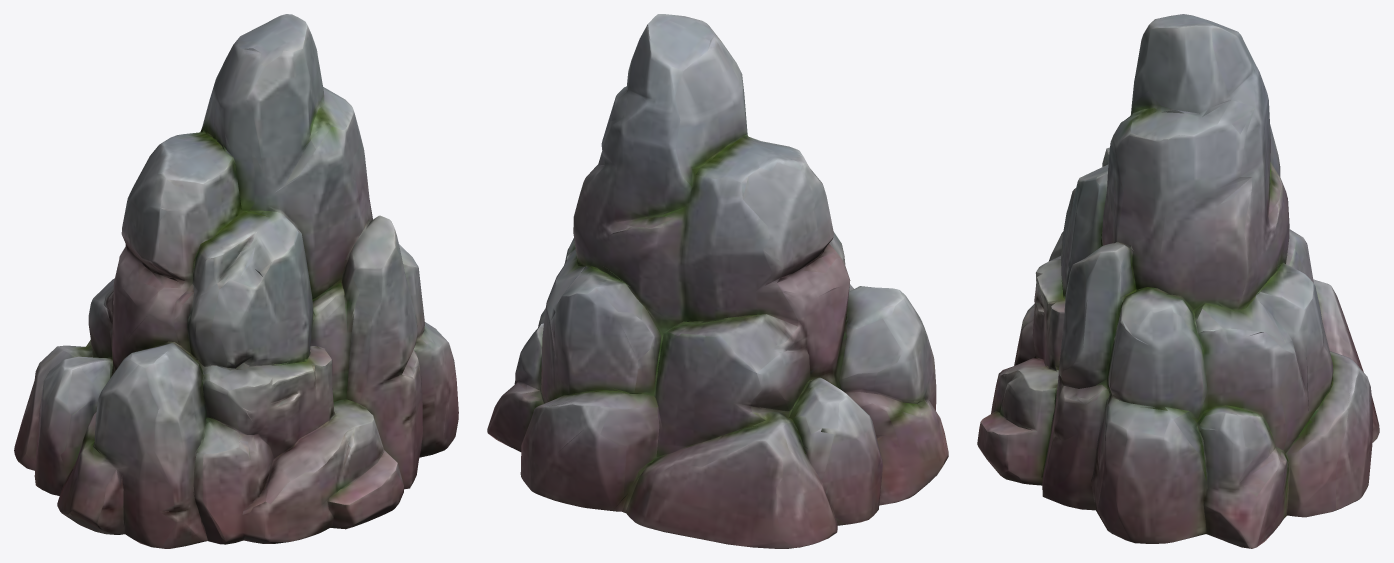
The model's file is rock_mossy_spire.glb.
3 views of the same model, side by side, from view 1: azimuth 30°, elevation 25°; view 2: azimuth 150°, elevation 25°; view 3: azimuth 270°, elevation 25° (orthographic). The views are drawn at different scales.
Visible parts, largest first — view 1: turn; view 2: turn; view 3: turn.
Boxes of the visible parts, left/top/right/bottom form: turn: left=14, top=14, right=458, bottom=548; turn: left=487, top=14, right=948, bottom=548; turn: left=977, top=14, right=1379, bottom=548.
Bounding box in the file's own units: 2.33 × 2.4 × 1.94.
1 material, 1 textured.
